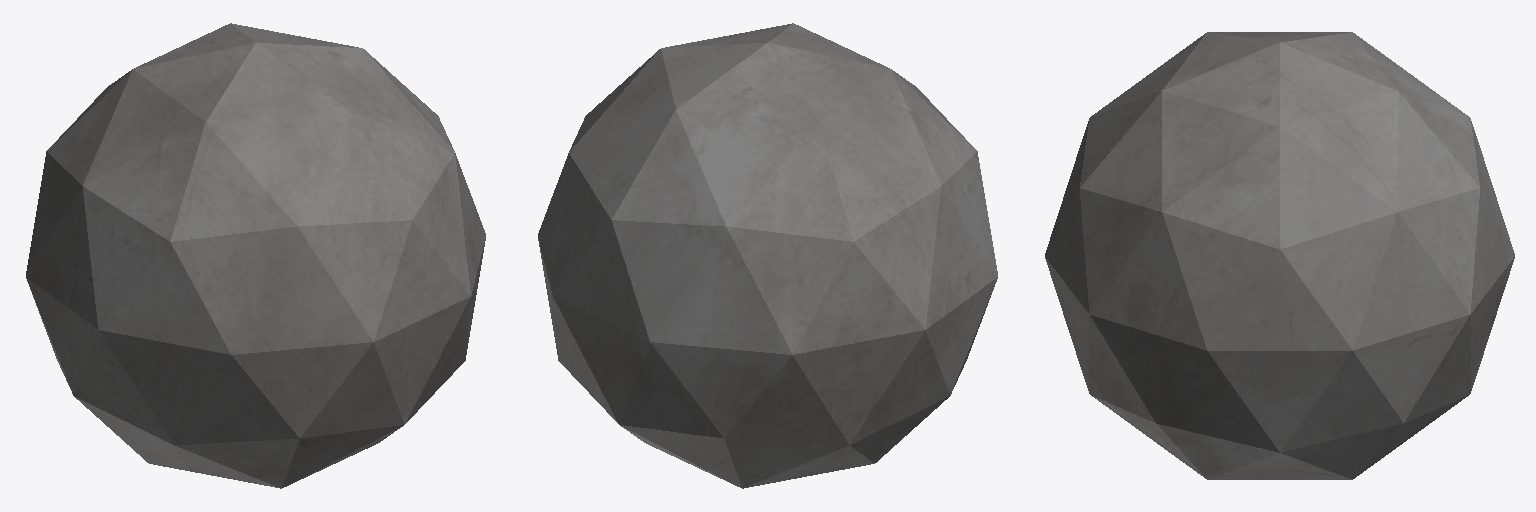
The picture shows the model from 3 angles: view 1: azimuth 30°, elevation 25°; view 2: azimuth 150°, elevation 25°; view 3: azimuth 270°, elevation 25°; orthographic projection.
Parts seen in each view (by area): view 1: Icosphere; view 2: Icosphere; view 3: Icosphere.
Boxes of the visible parts, x1=… form: Icosphere: x1=26, y1=23, x2=485, y2=488; Icosphere: x1=538, y1=23, x2=997, y2=488; Icosphere: x1=1045, y1=32, x2=1514, y2=479.
Bounding box in the file's own units: 1.9 × 2 × 2.
1 materials, 1 textured.